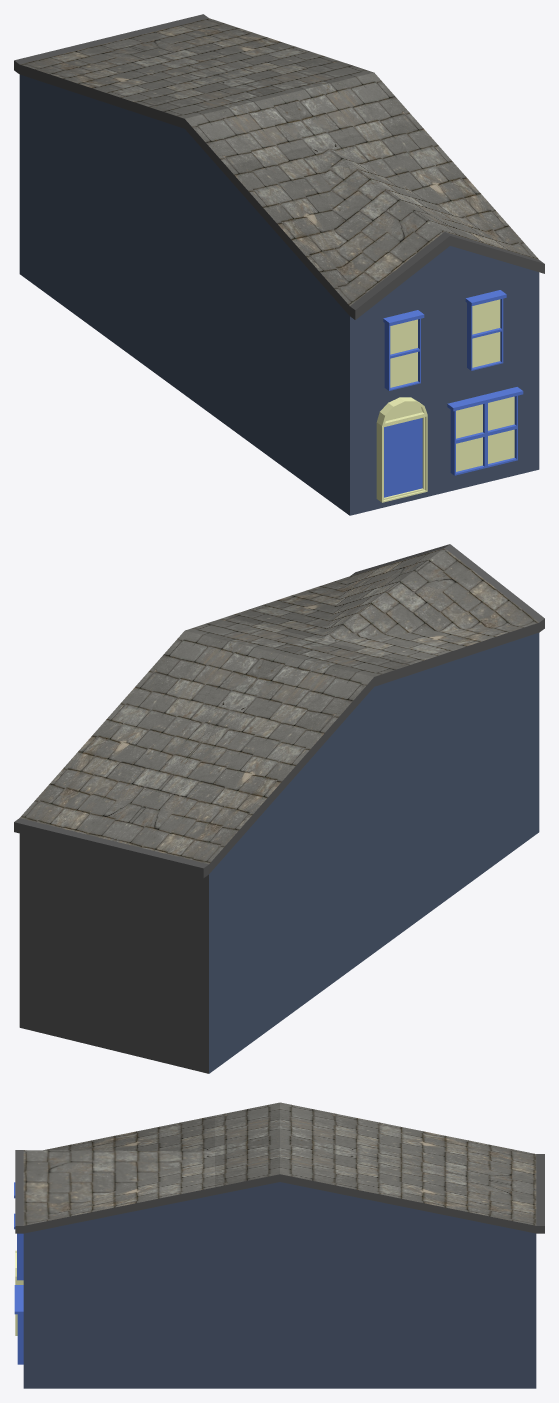
File: house-full.fbx
3 views of the same model, one above another, from view 1: azimuth 30°, elevation 25°; view 2: azimuth 150°, elevation 25°; view 3: azimuth 270°, elevation 25° (orthographic). The views are drawn at different scales.
Visible parts, largest first — view 1: house full up, window dual .004, door round top.001, window single .001, window single .003; view 2: house full up; view 3: house full up, window dual .004, window single .001.
Part boxes in pixels (x1,y1,x2,y2): house full up: [14, 14, 544, 515]; window dual .004: [447, 387, 523, 475]; door round top.001: [376, 397, 427, 502]; window single .001: [465, 290, 506, 370]; window single .003: [383, 310, 424, 390]; house full up: [14, 544, 544, 1073]; house full up: [15, 1102, 544, 1388]; window dual .004: [14, 1285, 23, 1364]; window single .001: [14, 1213, 23, 1280].
Bounding box in the file's own units: 596 × 830 × 1864.
